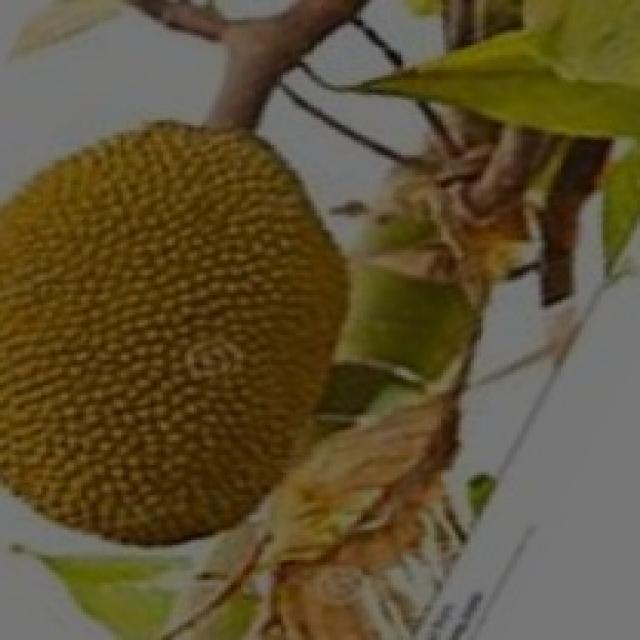Fruit: (0, 98, 388, 462)
